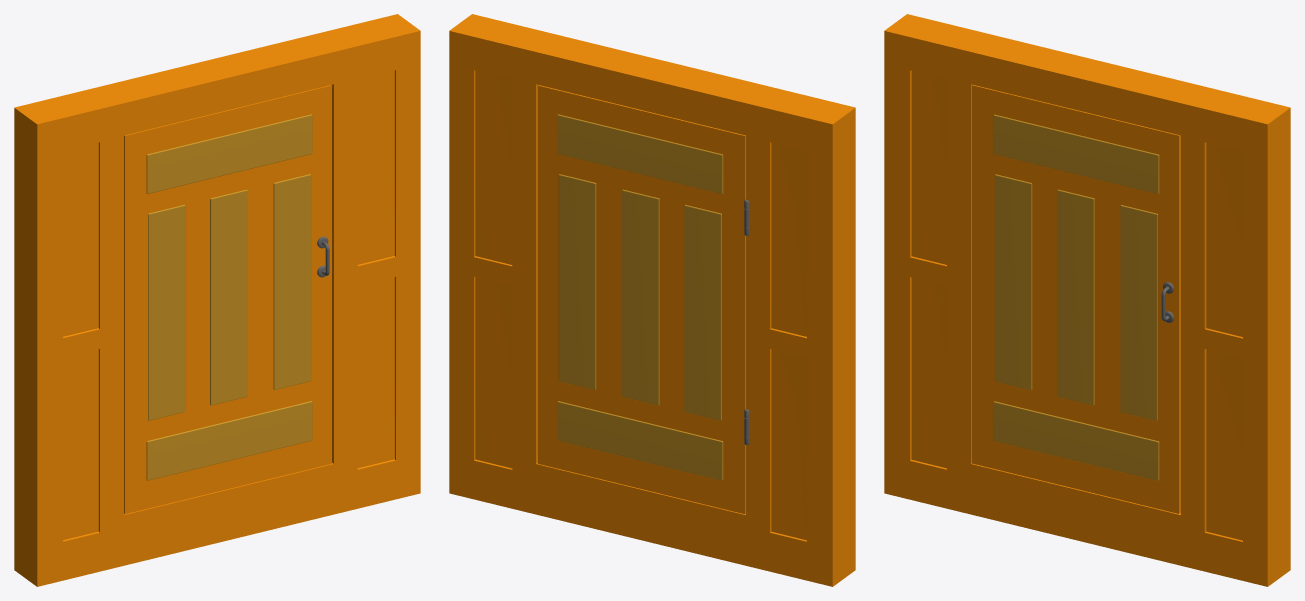
File: haalga.glb
3 renders of one model, left to right at view 1: azimuth 30°, elevation 25°; view 2: azimuth 150°, elevation 25°; view 3: azimuth 330°, elevation 25°, orthographic.
Visible parts, largest first — view 1: pasted__pasted__pasted__polySurface3, polySurface6, polySurface1, polySurface2, polySurface3, polySurface4, polySurface5; view 2: pasted__pasted__pasted__polySurface3, polySurface6, polySurface1, polySurface2, polySurface3, polySurface4, polySurface5; view 3: pasted__pasted__pasted__polySurface3, polySurface6, polySurface3, polySurface2, polySurface1, polySurface4, polySurface5.
Part boxes in pixels (x1,y1,x2,y2): pasted__pasted__pasted__polySurface3: (14, 14, 420, 586); polySurface6: (124, 85, 331, 513); polySurface1: (273, 174, 311, 389); polySurface2: (210, 189, 247, 405); polySurface3: (148, 204, 185, 420); polySurface4: (146, 114, 312, 193); polySurface5: (146, 401, 312, 480); pasted__pasted__pasted__polySurface3: (449, 14, 855, 586); polySurface6: (538, 85, 745, 514); polySurface1: (558, 174, 596, 390); polySurface2: (622, 189, 659, 405); polySurface3: (684, 204, 721, 420); polySurface4: (557, 114, 723, 193); polySurface5: (557, 401, 723, 480); pasted__pasted__pasted__polySurface3: (884, 14, 1290, 586); polySurface6: (972, 85, 1180, 513); polySurface3: (994, 174, 1032, 390); polySurface2: (1057, 189, 1094, 405); polySurface1: (1120, 205, 1157, 420); polySurface4: (993, 114, 1159, 194); polySurface5: (993, 401, 1159, 480).
Size of the model in its own units: 6.61 by 7.62 by 0.9176.
